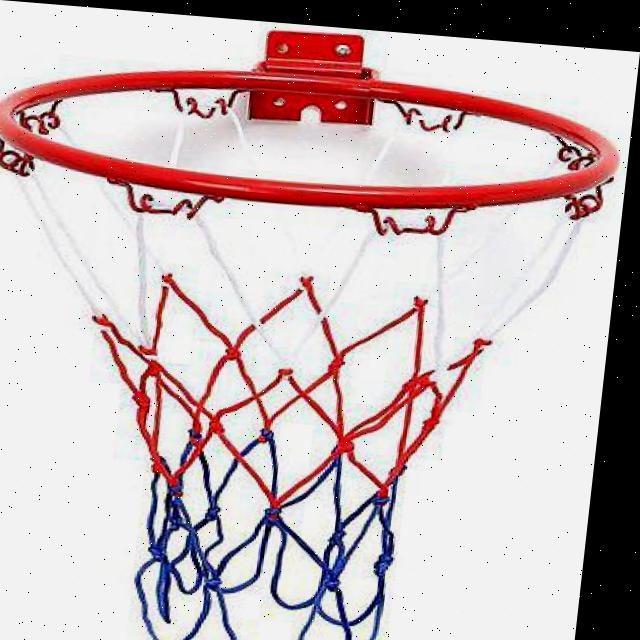hoop: (0, 50, 626, 640)
